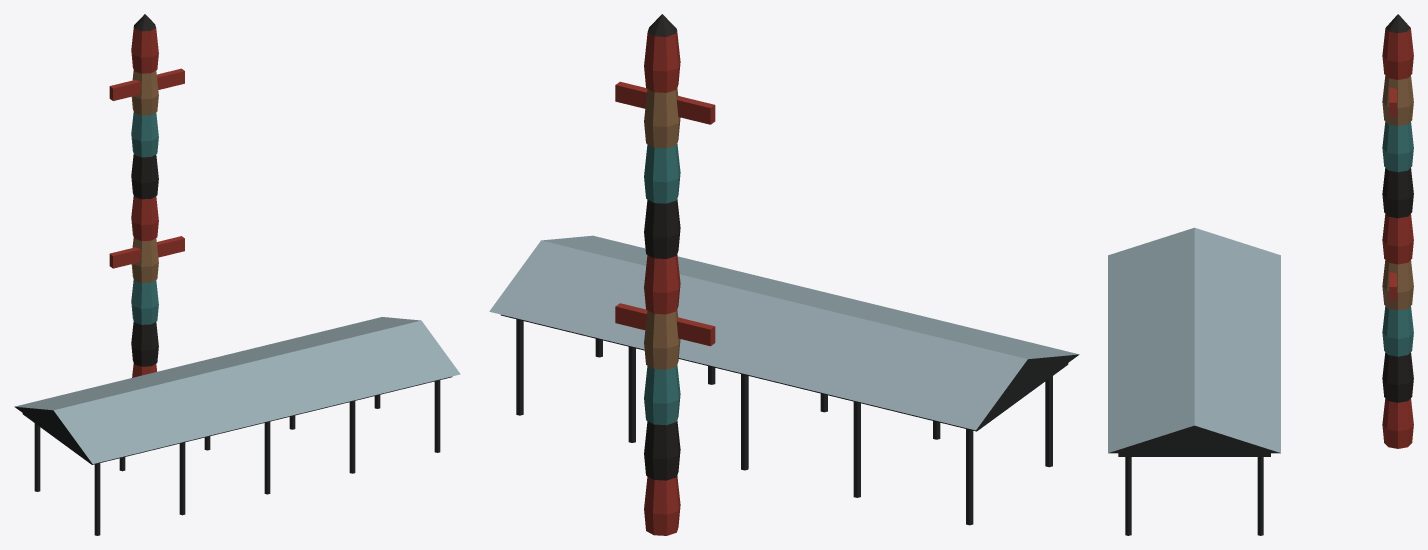
Rendered from pioneer_pergola.glb.
The picture shows the model from 3 angles, left to right: view 1: azimuth 30°, elevation 25°; view 2: azimuth 150°, elevation 25°; view 3: azimuth 270°, elevation 25°; orthographic projection. The views are drawn at different scales.
Parts seen in each view (by area): view 1: pioneer_pergola; view 2: pioneer_pergola; view 3: pioneer_pergola.
Part boxes in pixels (x1=…): pioneer_pergola: x1=14, y1=14, x2=460, y2=535; pioneer_pergola: x1=489, y1=14, x2=1079, y2=535; pioneer_pergola: x1=1108, y1=14, x2=1413, y2=535.
Size of the model in its own units: 18.4 by 18.6 by 12.02.
1 material, 1 textured.
